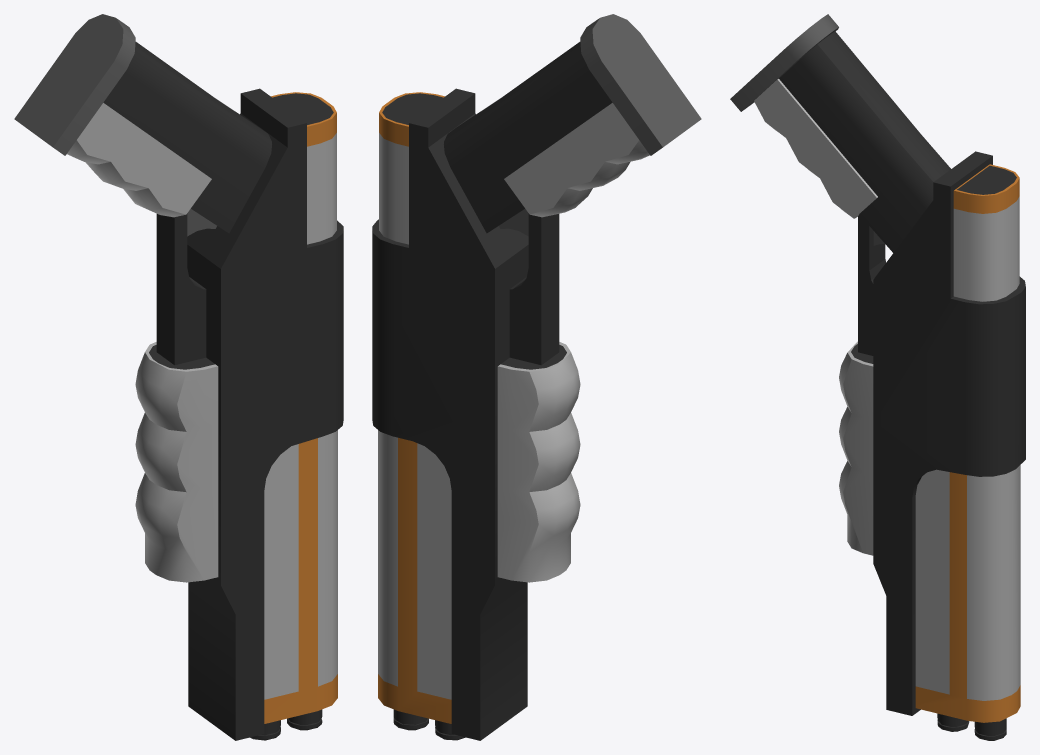
The model's file is qg-pistol-2-lod1.glb.
The picture shows the model from 3 angles, left to right: view 1: azimuth 30°, elevation 25°; view 2: azimuth 150°, elevation 25°; view 3: azimuth 330°, elevation 25°; orthographic projection. The views are drawn at different scales.
Parts seen in each view (by area): view 1: WeaponMesh_qg-pistol-2_Pistol_2; view 2: WeaponMesh_qg-pistol-2_Pistol_2; view 3: WeaponMesh_qg-pistol-2_Pistol_2.
Boxes of the visible parts, <box> form: WeaponMesh_qg-pistol-2_Pistol_2: <box>14,14,343,740</box>; WeaponMesh_qg-pistol-2_Pistol_2: <box>372,14,701,740</box>; WeaponMesh_qg-pistol-2_Pistol_2: <box>730,14,1025,740</box>.
Size of the model in its own units: 0.2606 by 0.62 by 0.0704.
